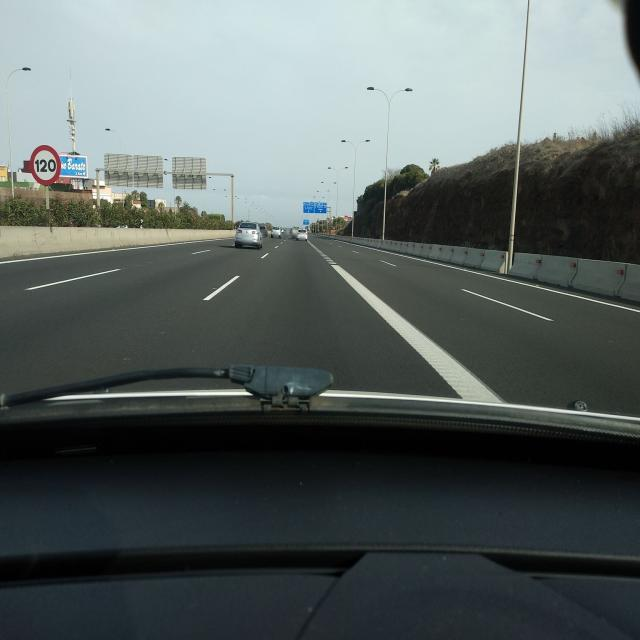car: (234, 221, 264, 249), (296, 228, 308, 242), (270, 226, 282, 239), (291, 227, 299, 238)
